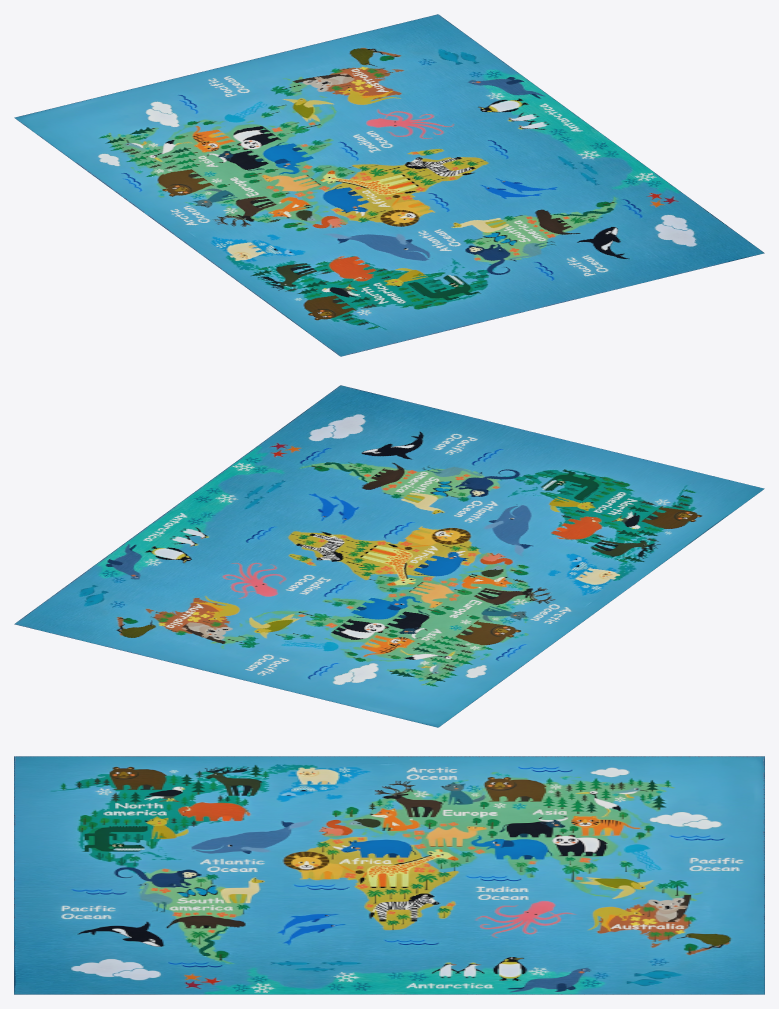
Rendered from carpet3_Chenille_120x160.glb.
The picture shows the model from 3 angles, top to bottom: view 1: azimuth 30°, elevation 25°; view 2: azimuth 150°, elevation 25°; view 3: azimuth 270°, elevation 25°; orthographic projection. The views are drawn at different scales.
Parts seen in each view (by area): view 1: carpet_Chenille_120x160 (1); view 2: carpet_Chenille_120x160 (1); view 3: carpet_Chenille_120x160 (1).
Boxes of the visible parts, box(x1,y1,x2,y2) form: carpet_Chenille_120x160 (1): box(14, 14, 764, 356); carpet_Chenille_120x160 (1): box(14, 385, 764, 727); carpet_Chenille_120x160 (1): box(14, 756, 764, 994).
Size of the model in its own units: 1.2 by 1.45e-08 by 1.6.
Materials: 2 (2 with a texture image).
